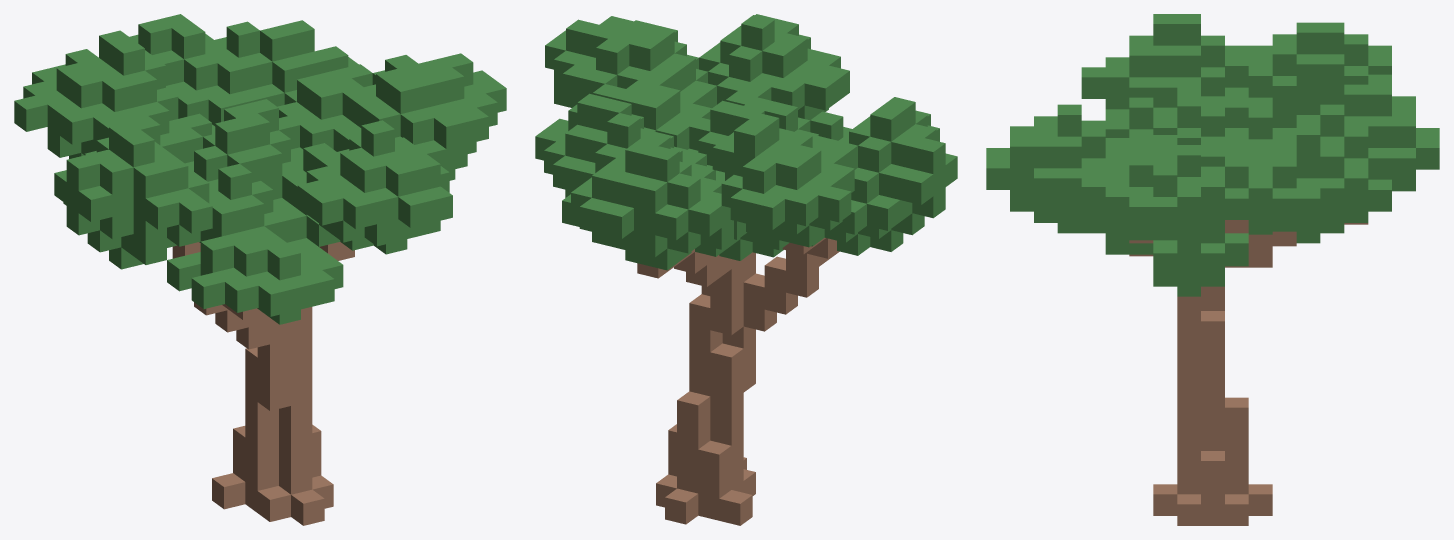
Rendered from tree_h_v1.fbx.
The picture shows the model from 3 angles, left to right: view 1: azimuth 30°, elevation 25°; view 2: azimuth 150°, elevation 25°; view 3: azimuth 270°, elevation 25°; orthographic projection. The views are drawn at different scales.
Parts seen in each view (by area): view 1: tree_h; view 2: tree_h; view 3: tree_h.
Boxes of the visible parts, x1,y1,x2,y2 form: tree_h: (14,14,506,525); tree_h: (535,14,957,525); tree_h: (986,14,1439,525).
Bounding box in the file's own units: 19 × 20 × 19.
